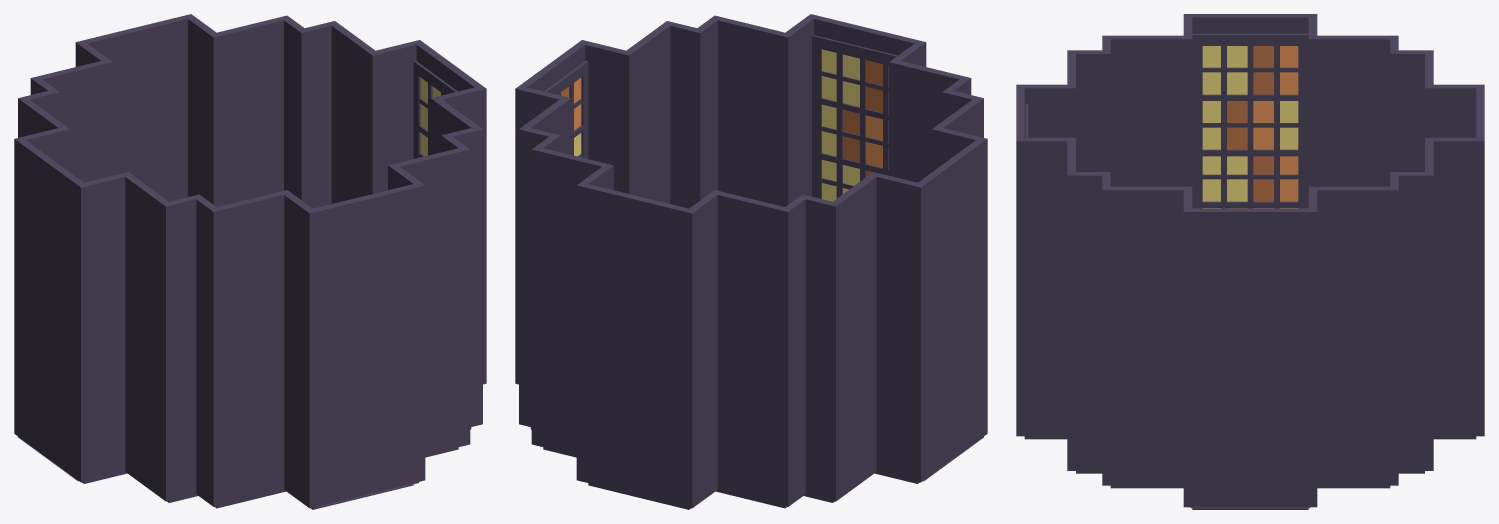
The model's file is meetingroom fbx.fbx.
3 renders of one model, left to right at view 1: azimuth 30°, elevation 25°; view 2: azimuth 150°, elevation 25°; view 3: azimuth 270°, elevation 25°, orthographic.
Parts seen in each view (by area): view 1: reception:pCube1, pasted__pasted__pCube38; view 2: reception:pCube1, pasted__pasted__pCube52, pasted__pasted__pCube38, pasted__pasted__pCube53; view 3: reception:pCube1, pasted__pasted__pCube41, pasted__pasted__pCube40.
Part boxes in pixels (x1,y1,x2,y2): reception:pCube1: (14, 14, 486, 509); pasted__pasted__pCube38: (413, 60, 457, 158); reception:pCube1: (515, 14, 987, 509); pasted__pasted__pCube52: (812, 35, 897, 185); pasted__pasted__pCube38: (544, 60, 588, 158); pasted__pasted__pCube53: (812, 156, 871, 201); reception:pCube1: (1016, 14, 1484, 509); pasted__pasted__pCube41: (1192, 33, 1308, 174); pasted__pasted__pCube40: (1192, 153, 1308, 208).
Size of the model in its own units: 114 by 81.3 by 114.
